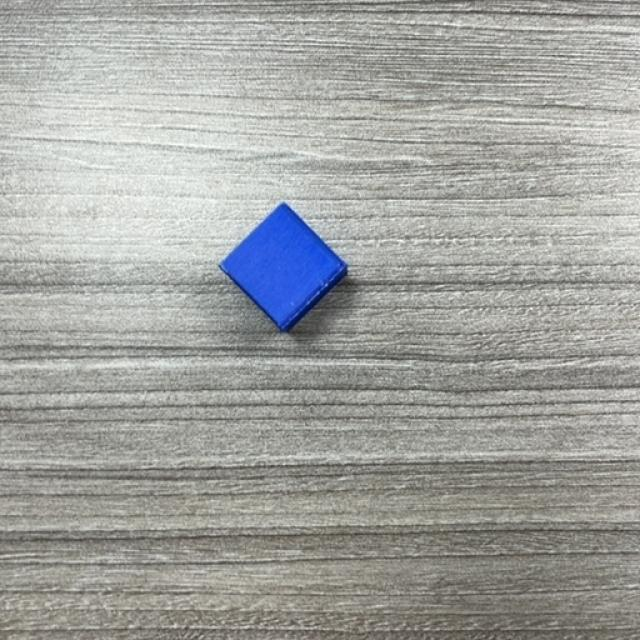Azul: (225, 212, 342, 331)
